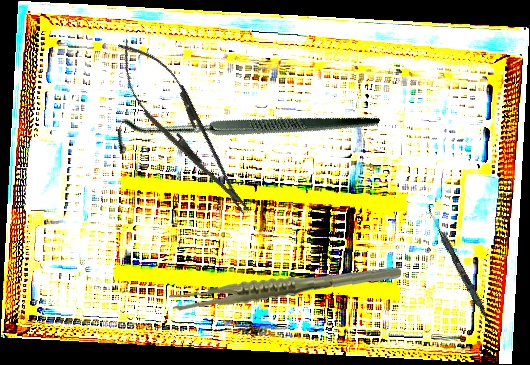Hook Surgical: (108, 17, 381, 251)
Needle Holder: (101, 28, 267, 229)
Spatula Surgical: (422, 204, 499, 334)
Tissue Forceps: (168, 253, 402, 323)
